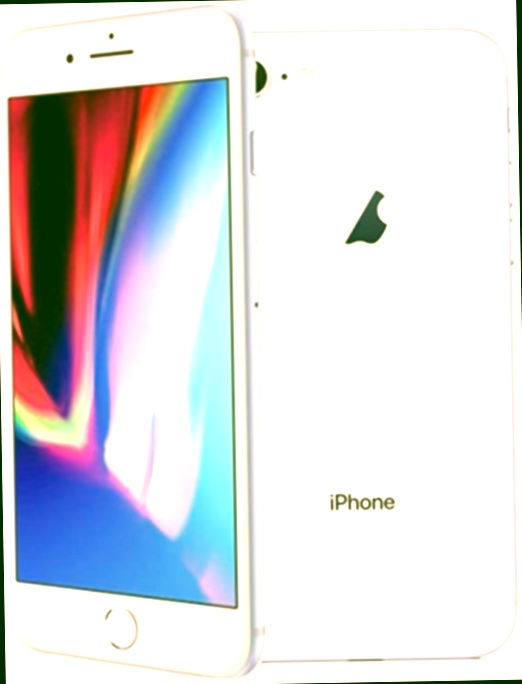iphone: (4, 3, 261, 678)
